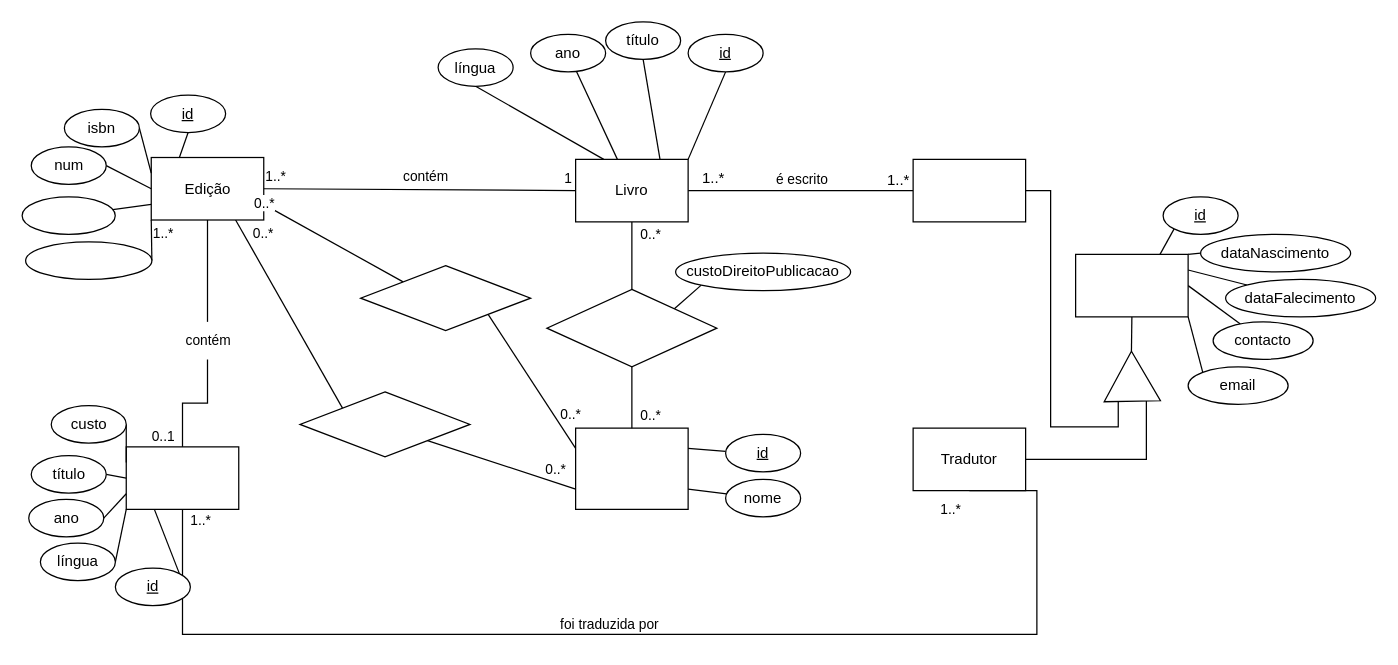
Some shapes in this 1398 by 665 pixel diagram are drawn without their labels. Here are the shapes that lost their labels. From the top down, the box of each, then its label:
(912, 158, 1026, 222): Autor
(21, 196, 115, 234): valorVendas
(24, 241, 152, 279): custoProducao
(359, 264, 531, 331): pode ser vendido
(1074, 253, 1188, 317): Pessoa
(546, 288, 717, 367): pode ser publicado
(299, 391, 470, 457): publicada em
(125, 446, 239, 509): Tradução
(574, 427, 688, 509): País
